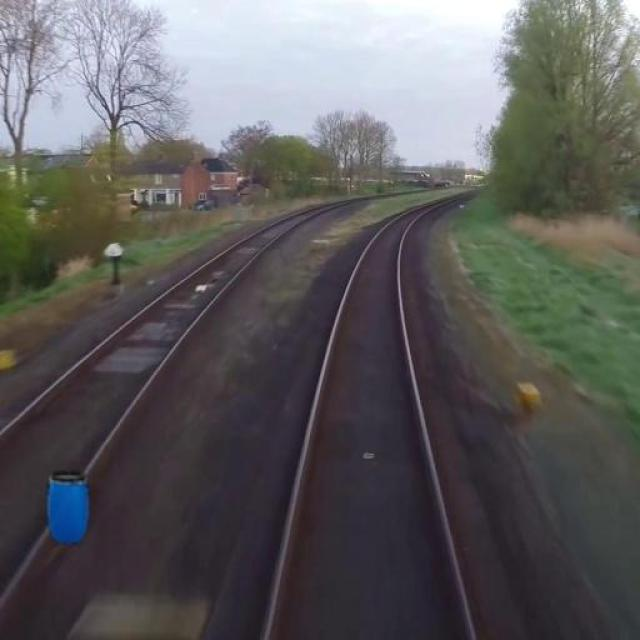Other_objects: (44, 461, 95, 554)
